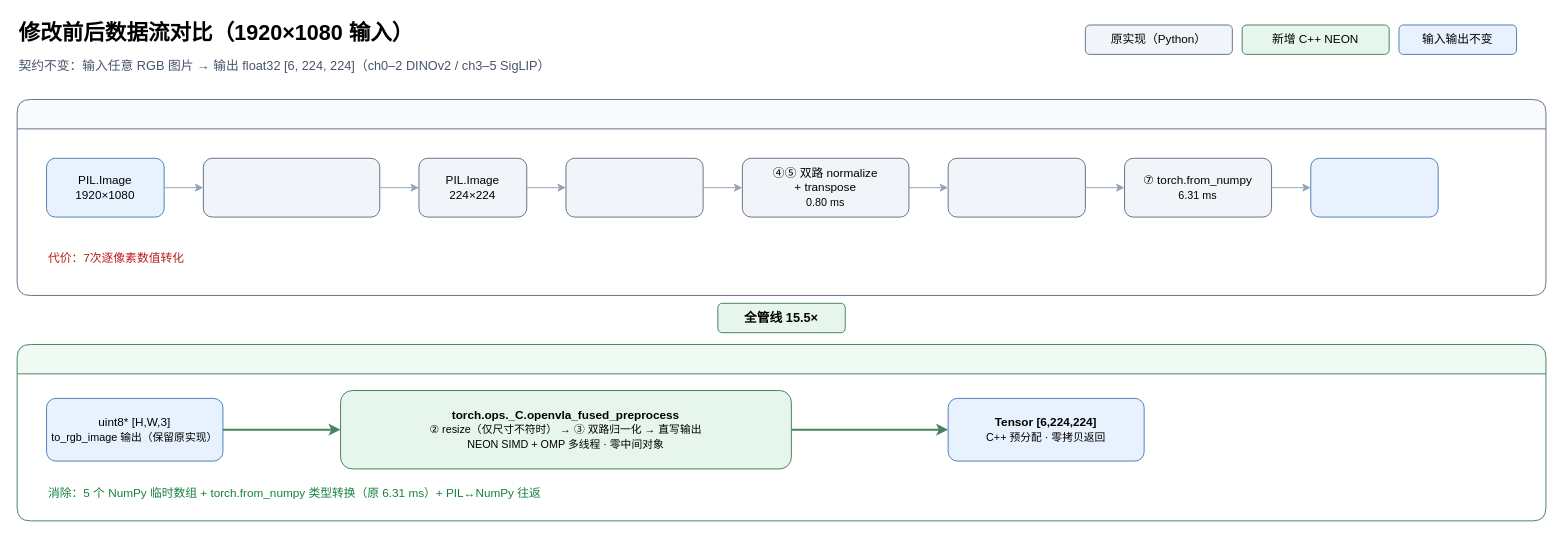
Some shapes in this 1563 by 538 pixel diagram are drawn without their labels. Here are the shapes that lost their labels. From the top down, the box of each, then its label:
(202, 157, 380, 217): ② PIL BICUBIC resize 10.81 ms · 单线程
(565, 157, 703, 217): ③ np.asarray ÷ 255 0.09 ms
(16, 98, 1546, 295): 修改前：PIL + NumPy 七步 · Python 解释器逐行驱动 · 20.16 ms
(947, 157, 1085, 217): ⑥ np.concatenate 0.46 ms
(1310, 157, 1438, 217): Tensor [6,224,224]
(16, 343, 1546, 521): 修改后：C++ NEON 融合算子 · 单次 ctypes 调用 · 1.30 ms（8线程）
